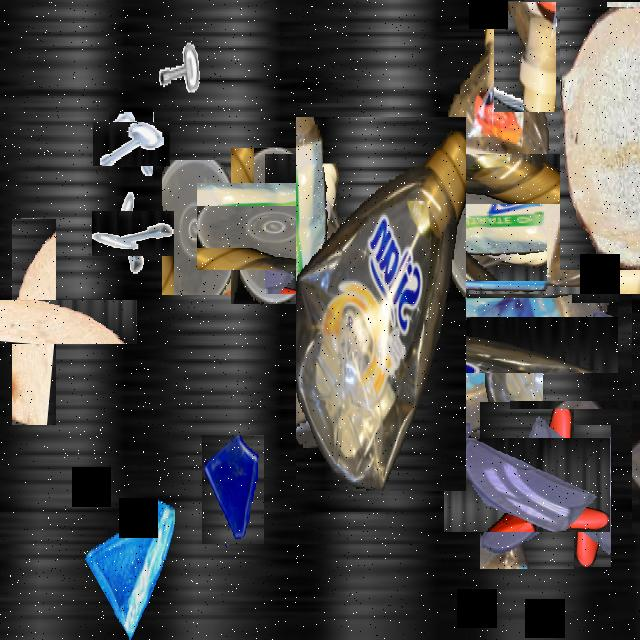glass: (462, 420, 592, 551), (84, 478, 174, 638), (202, 436, 264, 546)
metal: (494, 2, 556, 112), (147, 4, 203, 103), (101, 201, 165, 265), (100, 114, 162, 174)
plastic: (340, 78, 632, 370), (296, 117, 466, 491), (372, 201, 580, 411), (162, 160, 308, 295), (214, 165, 336, 287), (537, 425, 611, 567), (570, 340, 640, 470), (607, 2, 640, 183)
wood: (560, 7, 640, 270), (0, 259, 96, 384)
